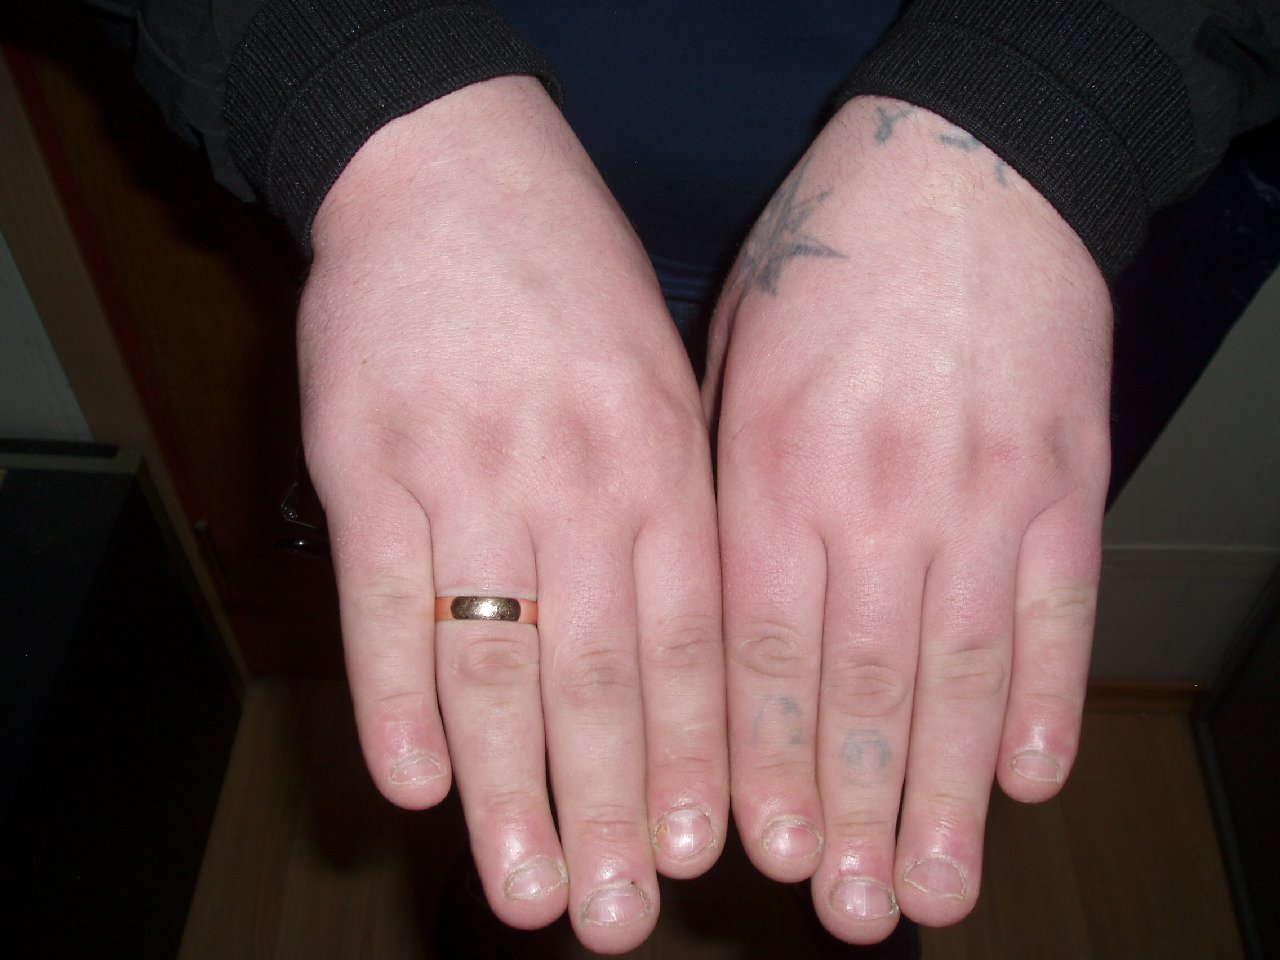tatu4_zvezda: (724, 152, 847, 320)
